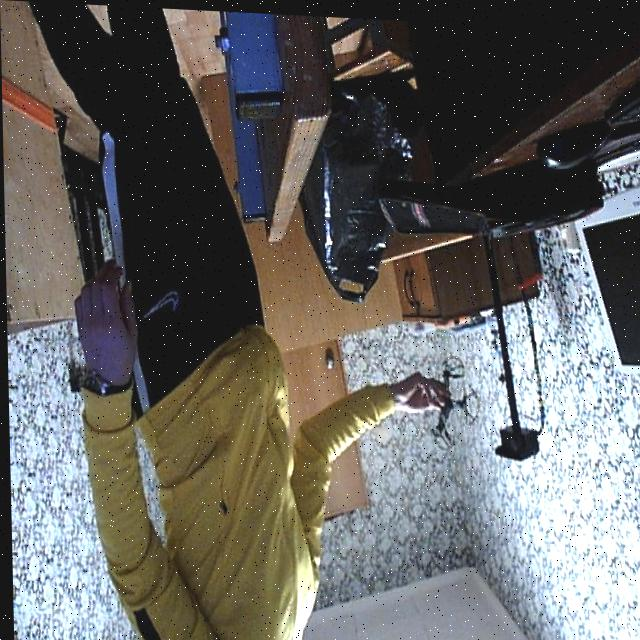drone: (401, 344, 486, 450)
